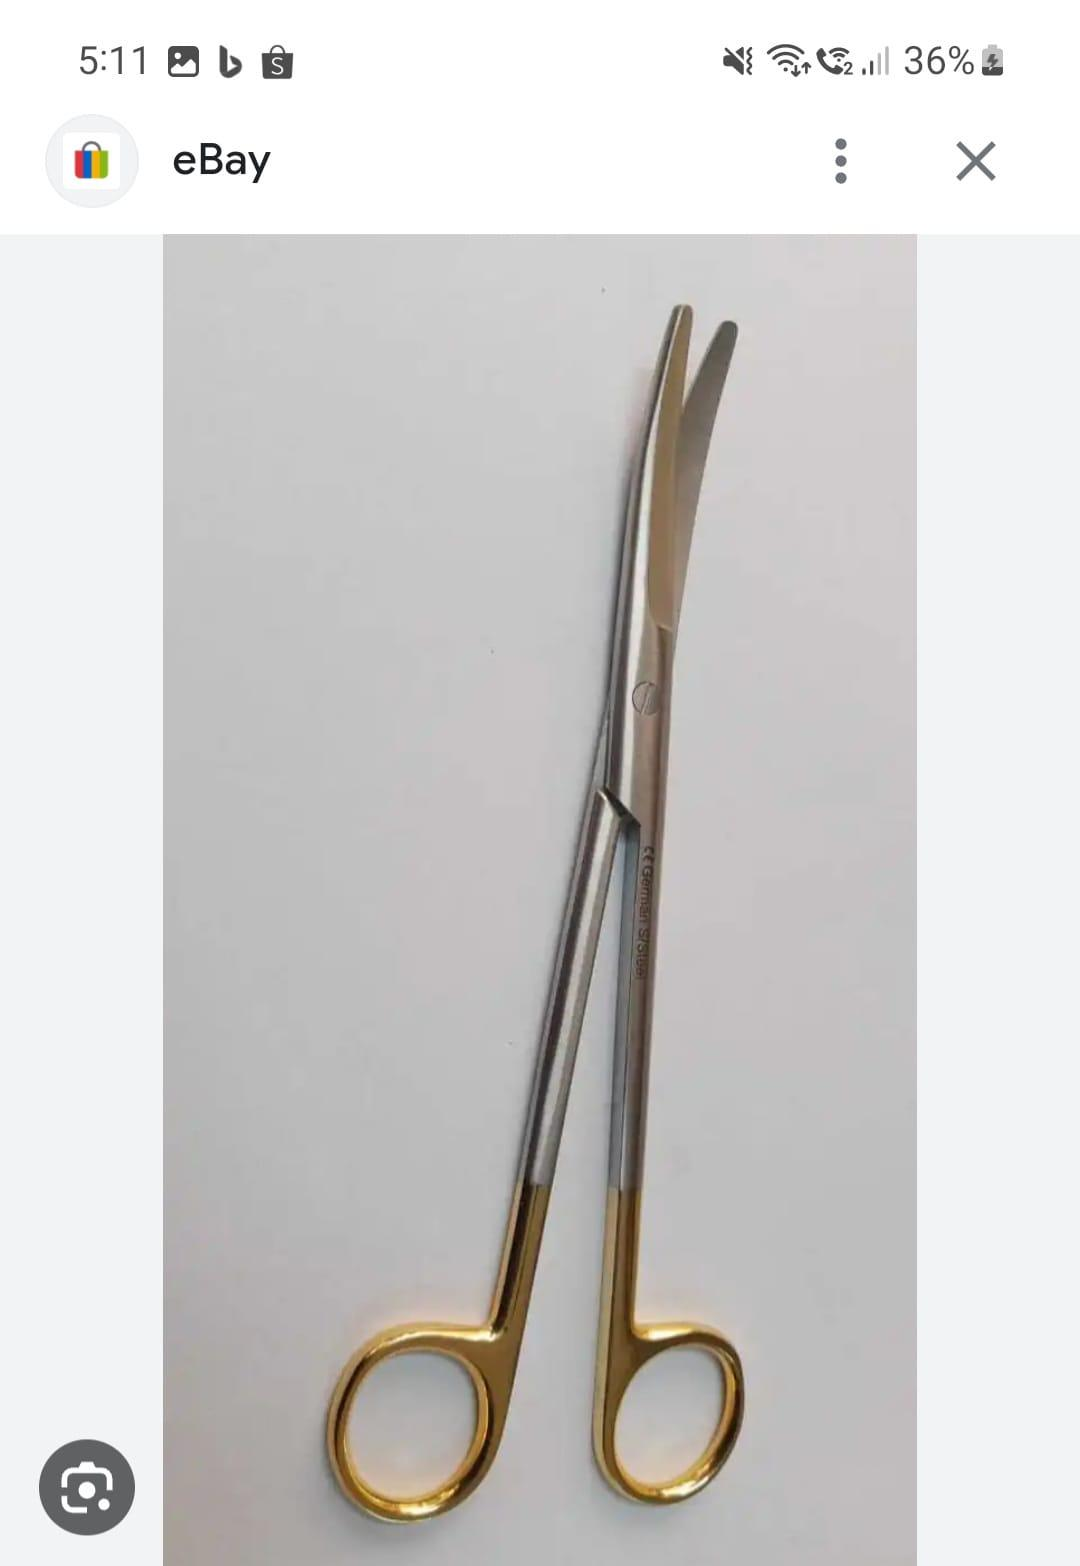Curved Mayo: (348, 290, 768, 1520)
